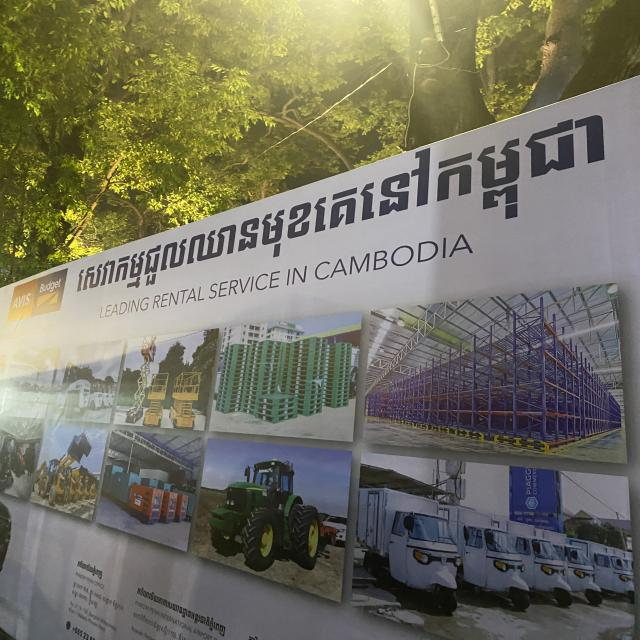Yolov11kh: (72, 84, 621, 301)
